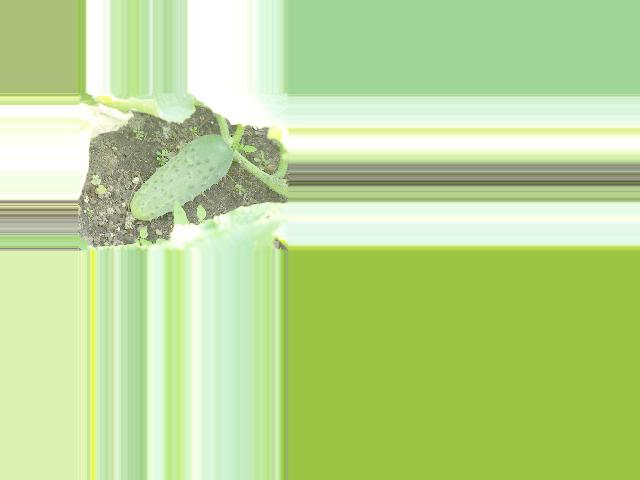cucumber: (130, 134, 234, 220)
